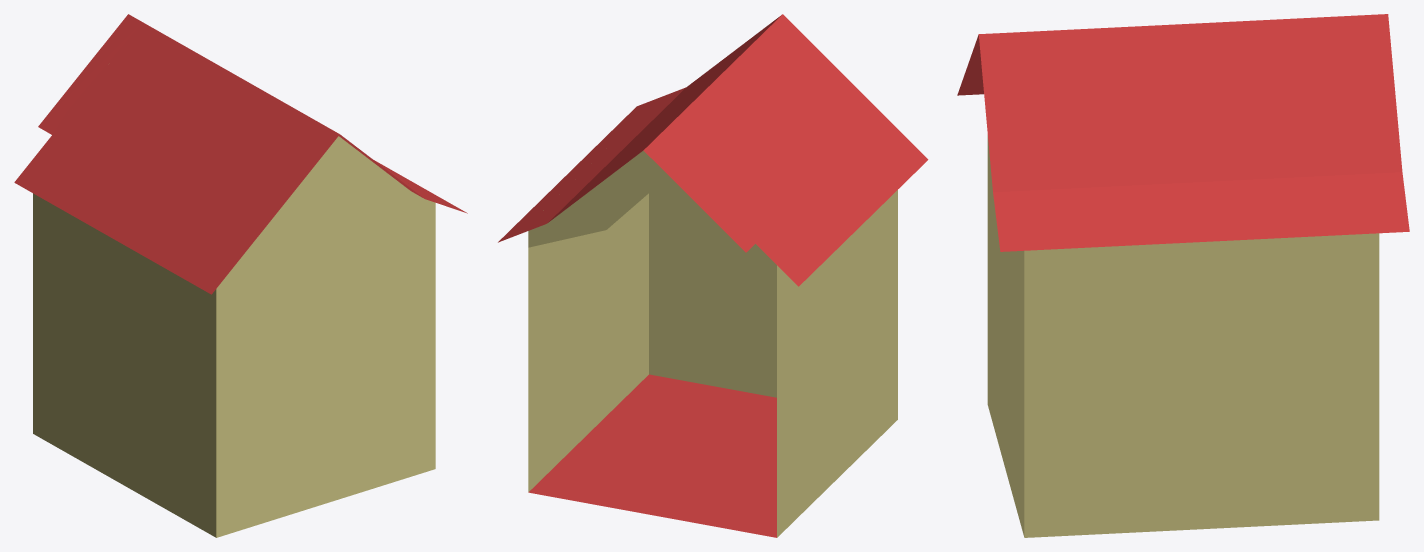
3 views of the same model, side by side, from view 1: azimuth 30°, elevation 25°; view 2: azimuth 150°, elevation 25°; view 3: azimuth 270°, elevation 25° (orthographic). The views are drawn at different scales.
Bounding box in the file's own units: 11.32 × 12.36 × 13.21.
